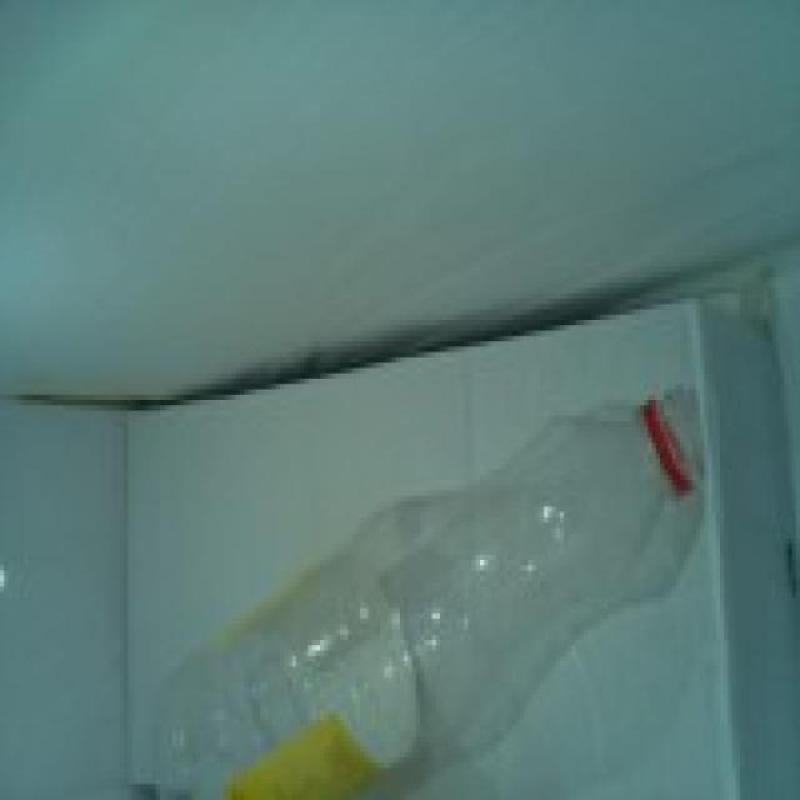botella: (121, 386, 705, 800)
